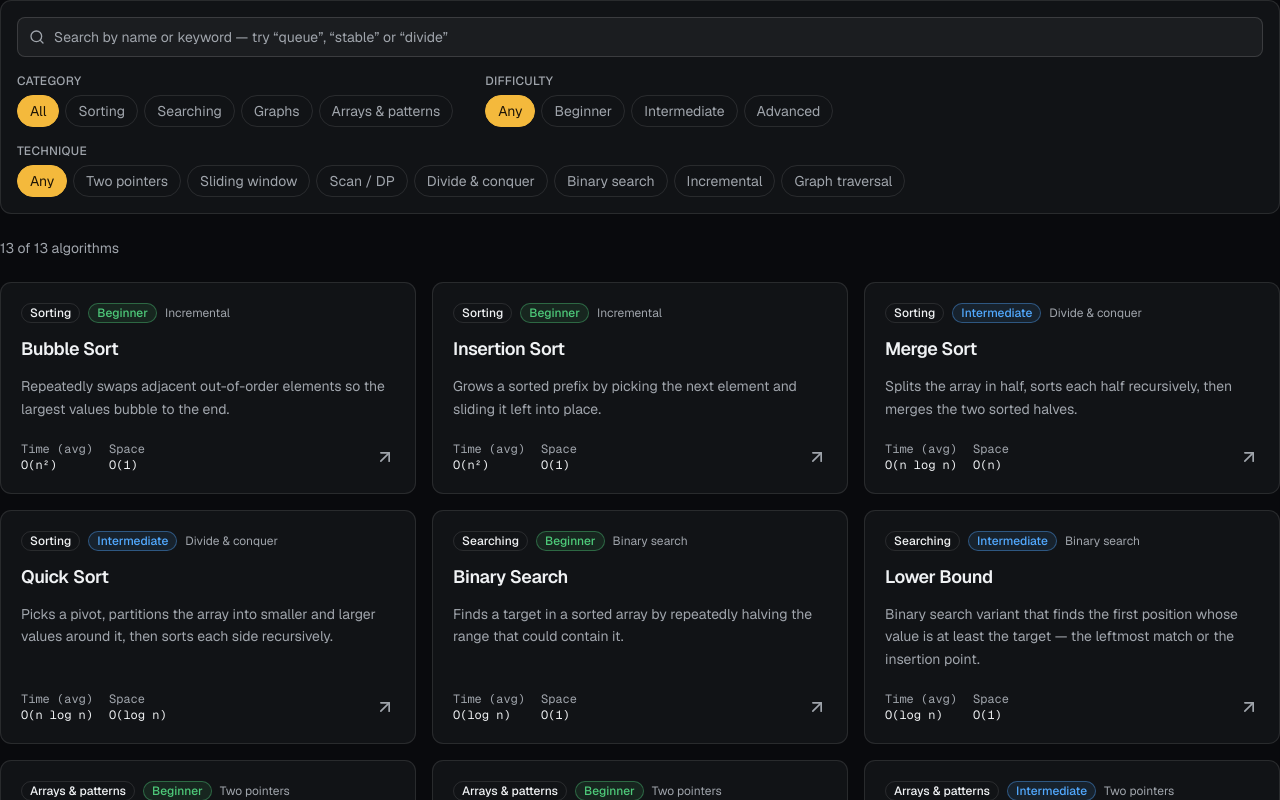
AlgorithmExplorer › lists every algorithm and filters by search text
This screenshot has width=1280, height=800.
Check: the message with test id "result-count" shows "13 of 13", box [0,238,119,258]
In the search field named "search algorithms": (640,37) [17,17,1263,57], type "queue"
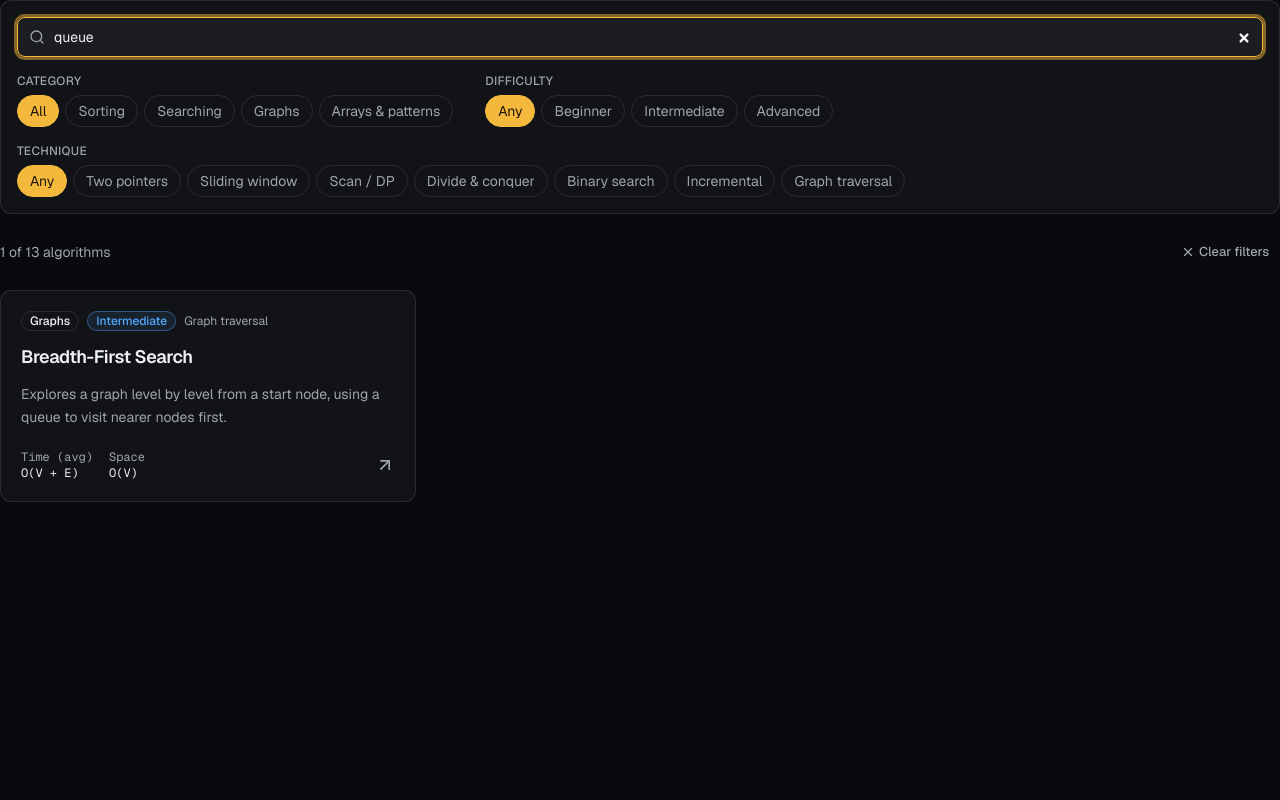
Check: the message with test id "result-count" shows "1 of 13", box [0,242,110,262]
